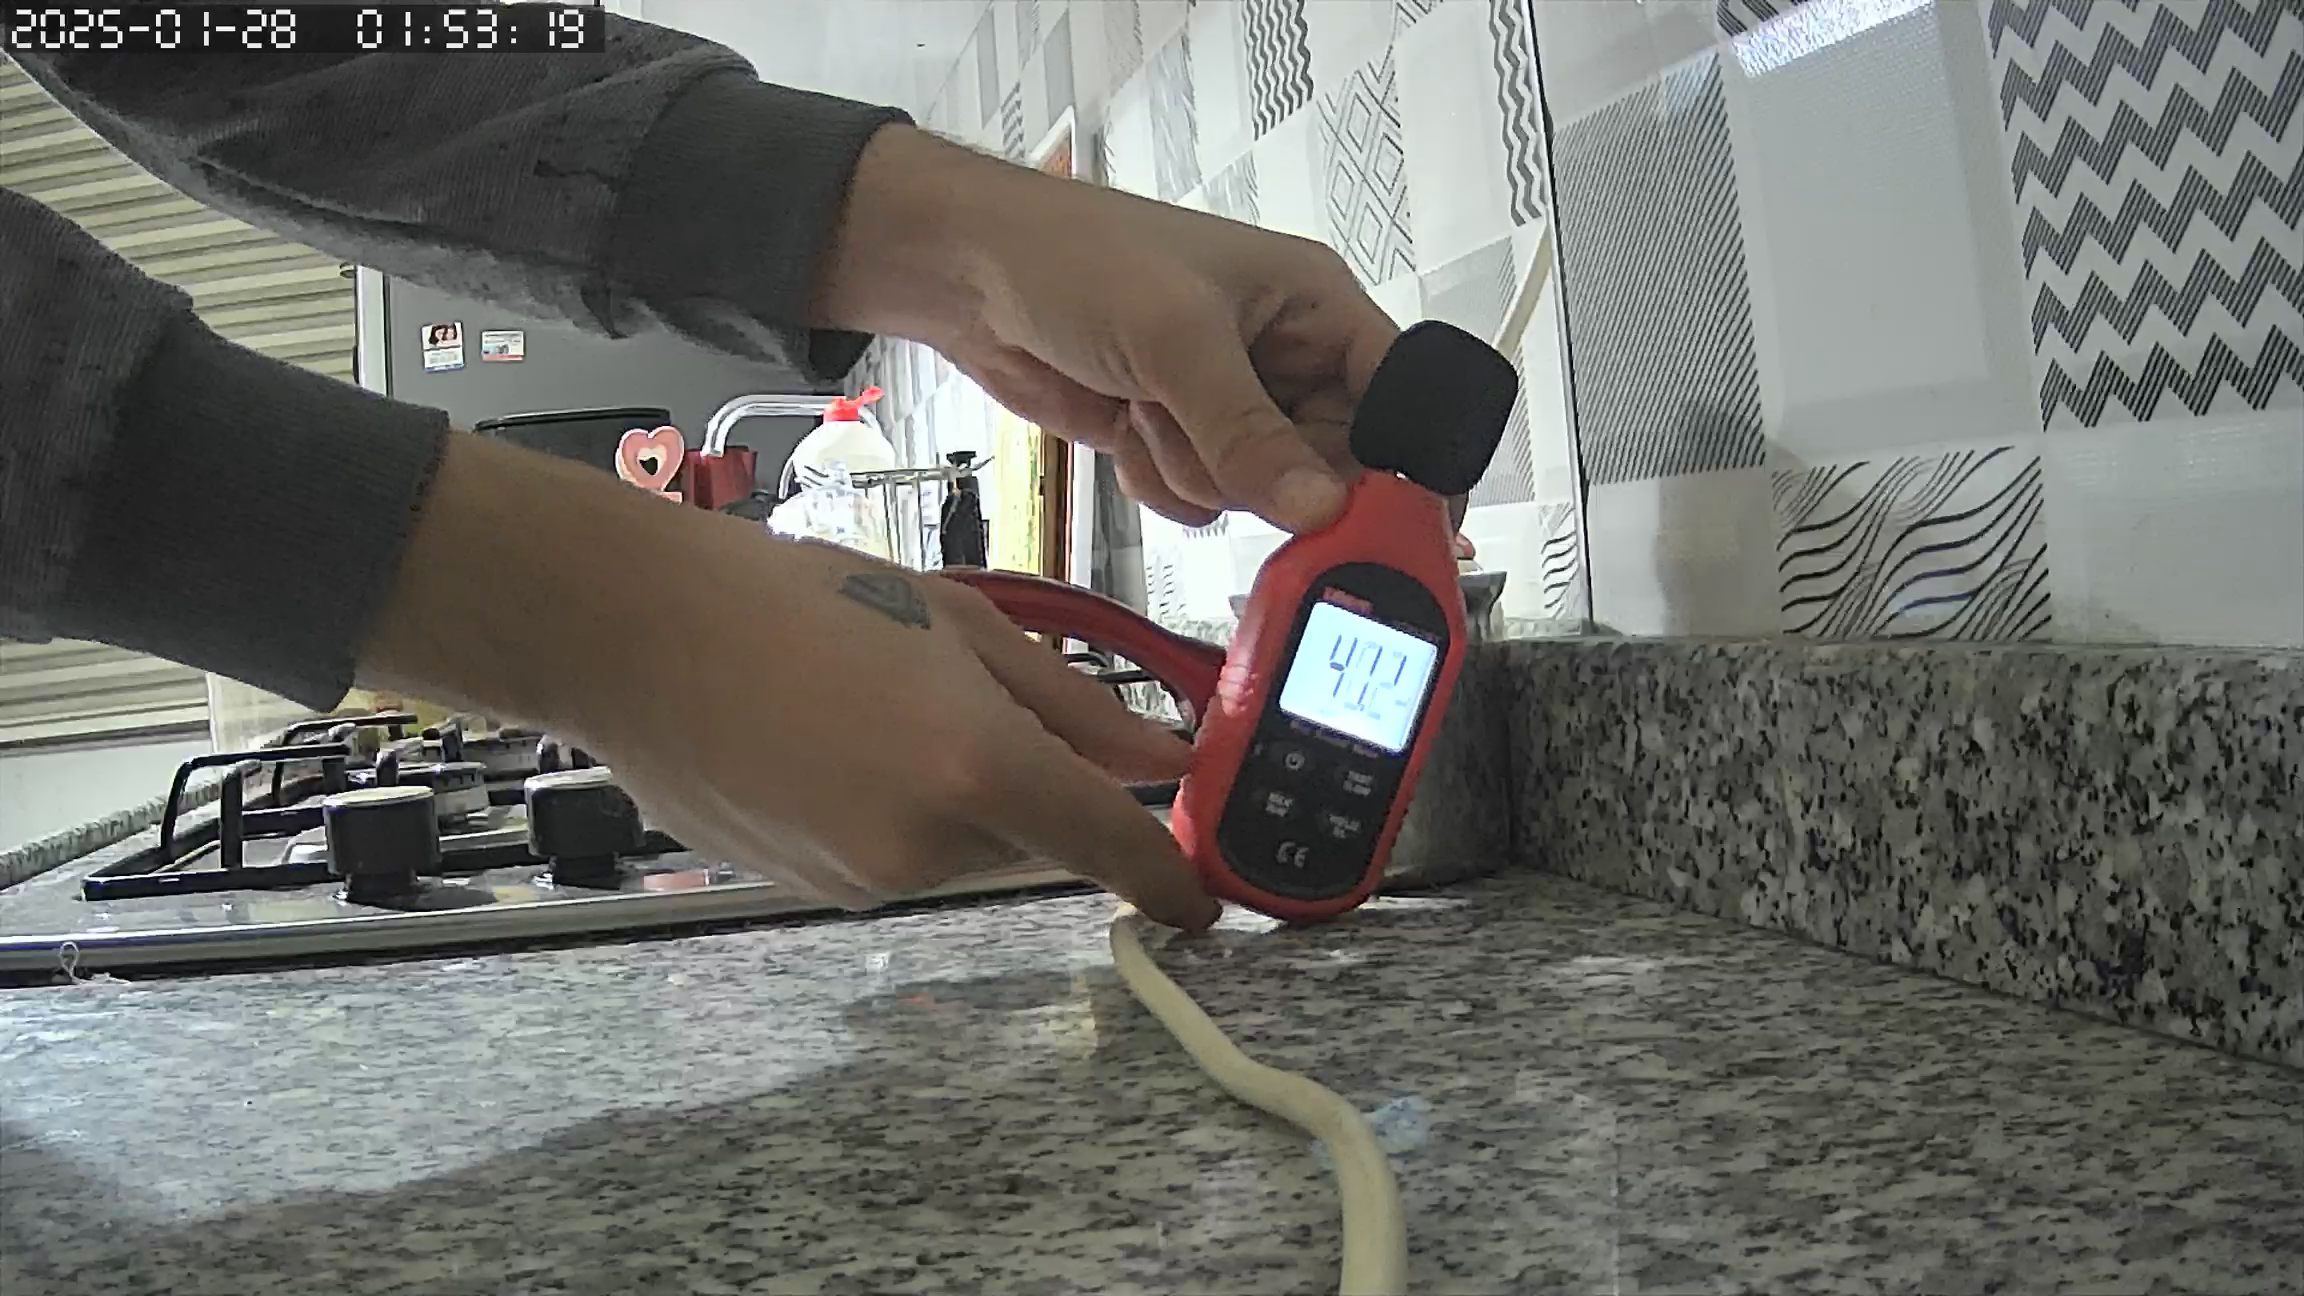screen: (1279, 600, 1435, 756)
